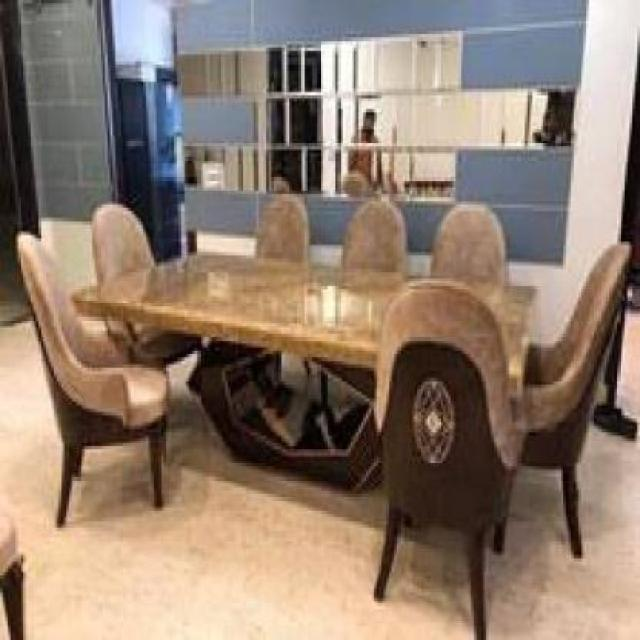tables: (71, 252, 540, 492)
